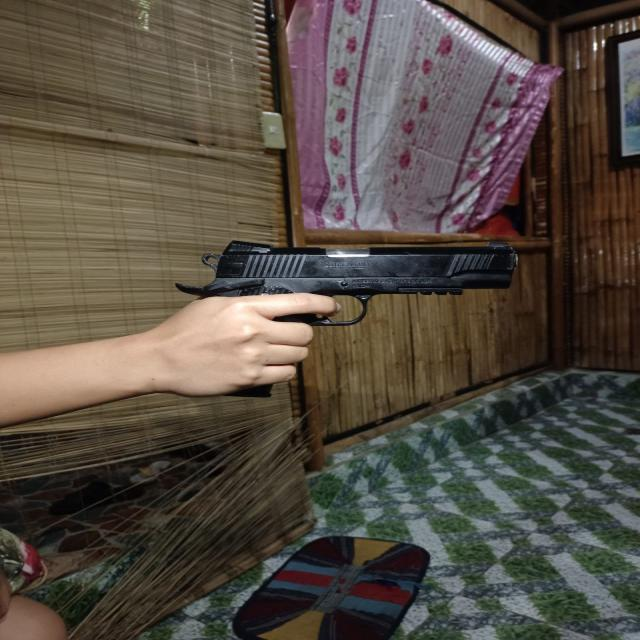pistol: (174, 240, 517, 326)
